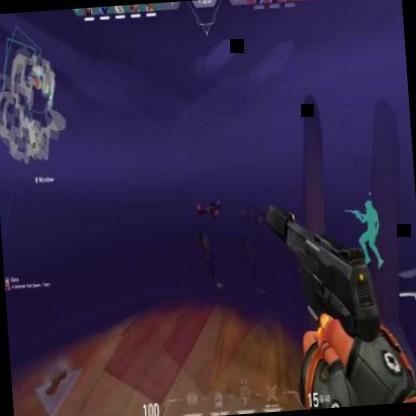enemy: (188, 181, 228, 288)
